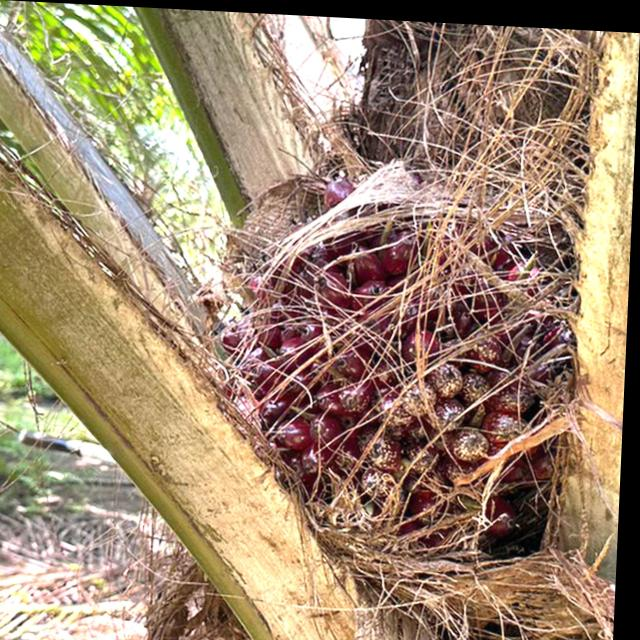ripe: (200, 140, 593, 538)
